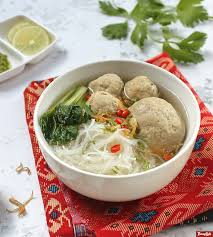Bakso besar: (127, 96, 186, 154)
Bakso sedang: (87, 90, 124, 117), (125, 75, 158, 102), (89, 73, 126, 96)
